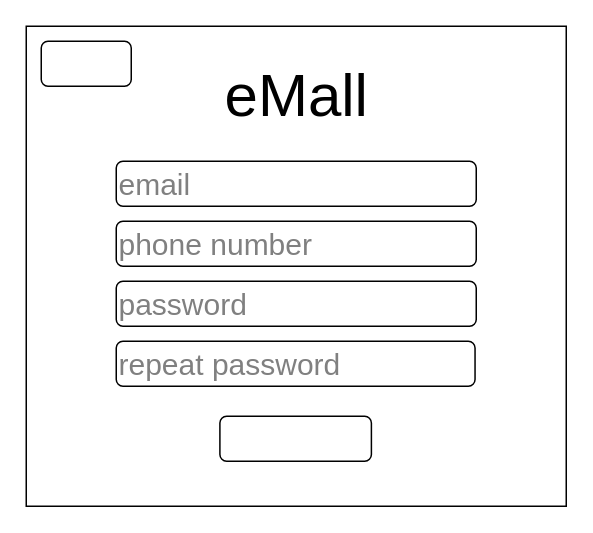
Some shapes in this 593 by 533 pixel diagram are drawn without their labels. The box of each missing label's shape, as (x1, y1, x2, y2) in pixels:
Back: (40, 40, 131, 86)
Sign up: (218, 415, 371, 461)
